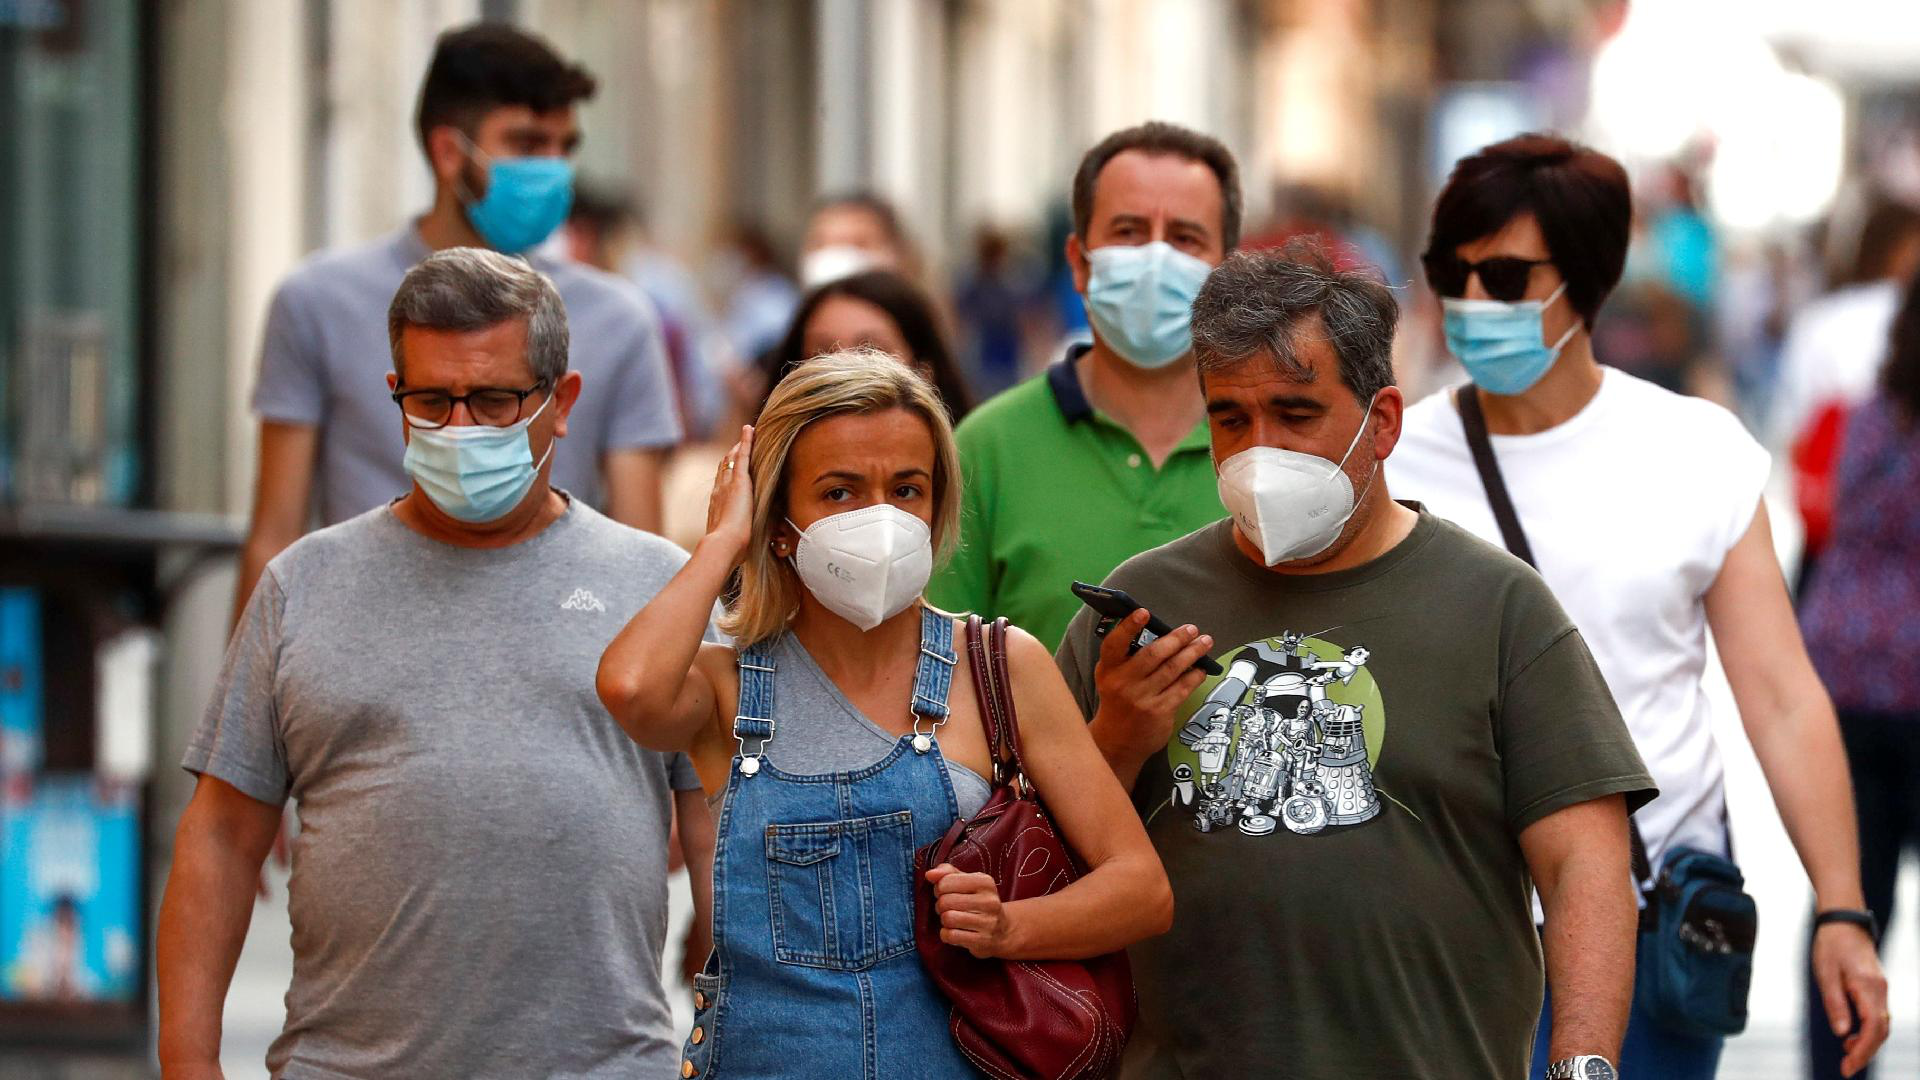with_mask: (1202, 357, 1413, 575), (378, 312, 585, 532), (766, 432, 946, 641), (1056, 186, 1242, 378), (1421, 219, 1606, 405)
